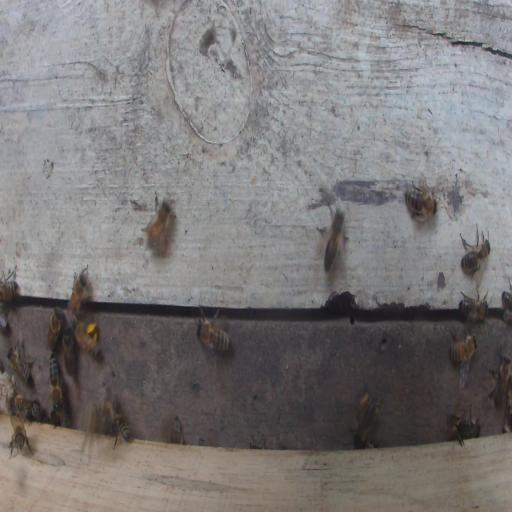nonpollenbee: (195, 307, 232, 353), (460, 225, 491, 278), (404, 175, 438, 223), (323, 206, 347, 274), (67, 263, 91, 318), (449, 406, 480, 447), (487, 353, 511, 404), (7, 340, 34, 384), (49, 354, 64, 427), (9, 415, 32, 459), (459, 290, 489, 322), (9, 390, 41, 420), (151, 200, 170, 246), (450, 334, 477, 364), (113, 411, 133, 450), (0, 265, 19, 304), (47, 306, 63, 352), (62, 323, 76, 375), (97, 395, 115, 434), (170, 415, 184, 444), (502, 289, 511, 321), (0, 313, 10, 334)
pollenbee: (354, 394, 378, 448), (73, 318, 101, 361)
